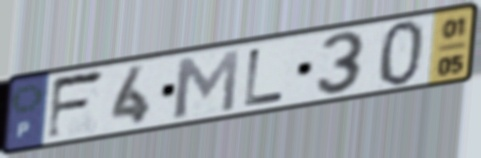0: (375, 18, 427, 89)
3: (313, 29, 369, 97)
4: (108, 62, 154, 129)
F: (44, 66, 108, 143)
L: (241, 45, 288, 109)
M: (171, 46, 242, 121)
